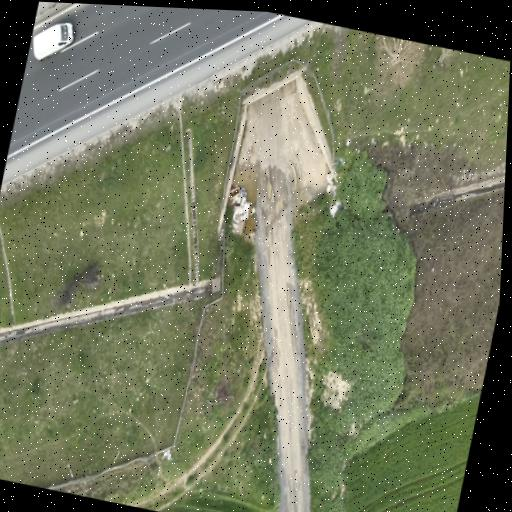car: (33, 23, 73, 60)
